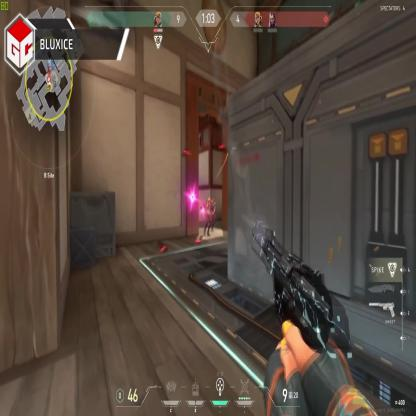enemy: (210, 198, 216, 232), (206, 194, 211, 233)
enemy_head: (207, 196, 210, 203), (211, 199, 214, 205)
